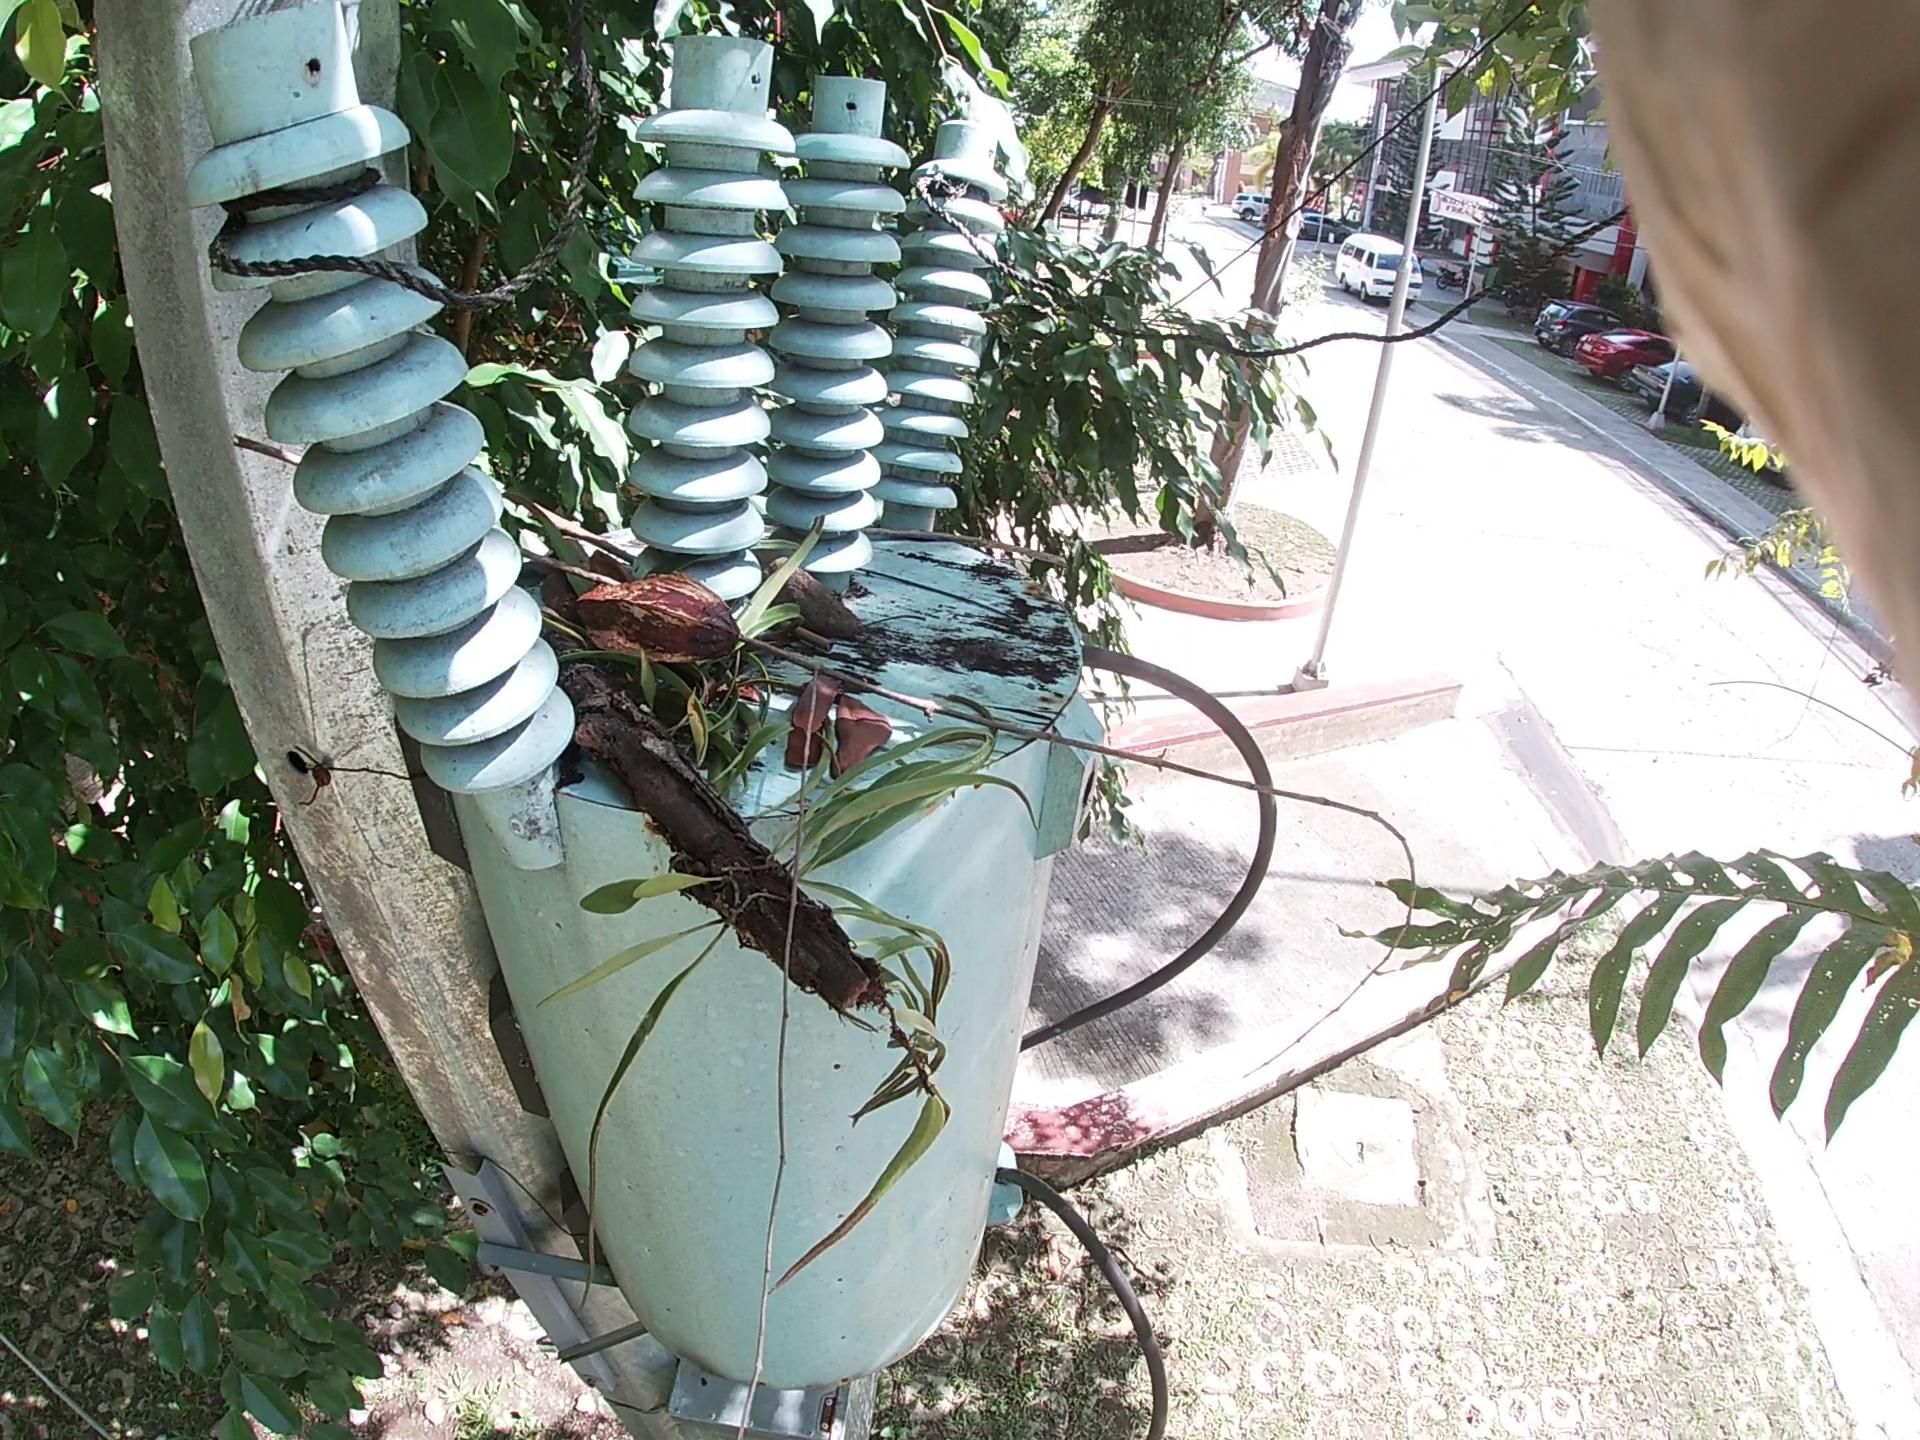branch with leaves: (522, 655, 968, 1051)
leaf: (745, 664, 874, 793)
mahogany fruit: (544, 566, 698, 720), (751, 510, 906, 663)
tree branch: (505, 501, 1448, 874), (801, 504, 1197, 626), (745, 573, 862, 697)
